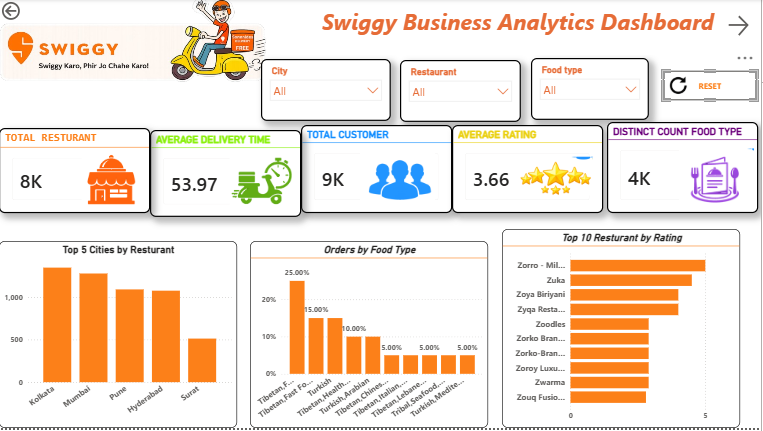

This screenshot's page, from the dashboard's own definition file:
{"tool":"powerbi","page":{"name":"Page 2","canvas":[1280,720],"ordinal":0},"visuals":[{"type":"image","box":[0,0,451.9,186.5],"z":0},{"type":"slicer","fields":{"Values":["swiggy.City"]},"box":[440.1,100.8,218.4,104.1],"z":1000},{"type":"slicer","fields":{"Values":["swiggy.Restaurant"]},"box":[673.6,102.5,203.3,104.1],"z":2000},{"type":"slicer","fields":{"Values":["swiggy.Food type"]},"box":[893.6,99.1,198.2,104.1],"z":3000},{"type":"actionButton","box":[0,0,100,40],"z":4000},{"type":"cardVisual","title":"TOTAL CUSTOMER","fields":{"Data":["swiggy.total coustmer"]},"box":[507.3,211.7,253.6,147.8],"z":5000},{"type":"cardVisual","title":"AVERAGE DELIVERY TIME","fields":{"Data":["Avg(swiggy.Delivery time)"]},"box":[253.6,220.1,253.6,146.1],"z":6000},{"type":"cardVisual","title":"TOTAL RESTURANT","fields":{"Data":["swiggy.total resturants"]},"box":[0,216.7,253.6,142.8],"z":7000},{"type":"cardVisual","title":"AVERAGE RATING","fields":{"Data":["Avg(swiggy.Avg ratings)"]},"box":[760.9,211.7,253.6,147.8],"z":8000},{"type":"cardVisual","title":"DISTINCT COUNT FOOD TYPE","fields":{"Data":["swiggy.DISTINCT COUNT FOOD TYPE"]},"box":[1021.3,206.6,253.6,152.9],"z":9000},{"type":"columnChart","title":"Top 5 Cities by Resturant ","fields":{"Category":["swiggy.City"],"Y":["CountNonNull(swiggy.ID)"]},"box":[0,406.5,399.8,314.1],"z":10000},{"type":"columnChart","title":"Orders by Food Type","fields":{"Category":["swiggy.Food type"],"Y":["Divide(swiggy.Total ordeers, ScopedEval(swiggy.Total ordeers, []))"]},"box":[421.6,406.5,399.8,314.1],"z":11000},{"type":"barChart","title":"Top 10 Resturant by Rating","fields":{"Category":["swiggy.Restaurant"],"Y":["Avg(swiggy.Avg ratings)"]},"box":[844.9,386.4,399.8,334.3],"z":12000},{"type":"textbox","box":[473.7,6.7,796.2,87.3],"z":13000},{"type":"actionButton","box":[1219.5,6.7,50.4,68.9],"z":14000},{"type":"image","box":[122.6,253.6,126,100.8],"z":14001},{"type":"image","box":[871.8,246.9,126,100.8],"z":14002},{"type":"image","box":[606.4,246.9,126,100.8],"z":14003},{"type":"image","box":[381.3,253.6,126,100.8],"z":14004},{"type":"image","box":[1142.3,246.9,126,100.8],"z":14005},{"type":"actionButton","box":[1113.7,119.3,161.3,52.1],"z":14006},{"type":"image","box":[1112,129.3,58.8,31.9],"z":14007}]}

Visuals, with their boxes in screenshot pixels (x1, y1, x2, y2), scaled from the page's 1280x720 canvas onto the 763x431 screenshot:
image: <region>0, 0, 269, 112</region>
slicer - swiggy.City: <region>262, 60, 393, 123</region>
slicer - swiggy.Restaurant: <region>402, 61, 523, 124</region>
slicer - swiggy.Food type: <region>533, 59, 651, 122</region>
actionButton: <region>0, 0, 60, 24</region>
"TOTAL CUSTOMER" cardVisual: <region>302, 127, 454, 215</region>
"AVERAGE DELIVERY TIME" cardVisual: <region>151, 132, 302, 219</region>
"TOTAL RESTURANT" cardVisual: <region>0, 130, 151, 215</region>
"AVERAGE RATING" cardVisual: <region>454, 127, 605, 215</region>
"DISTINCT COUNT FOOD TYPE" cardVisual: <region>609, 124, 760, 215</region>
"Top 5 Cities by Resturant " columnChart: <region>0, 243, 238, 430</region>
"Orders by Food Type" columnChart: <region>251, 243, 490, 430</region>
"Top 10 Resturant by Rating" barChart: <region>504, 231, 742, 430</region>
textbox: <region>282, 4, 757, 56</region>
actionButton: <region>727, 4, 757, 45</region>
image: <region>73, 152, 148, 212</region>
image: <region>520, 148, 595, 208</region>
image: <region>361, 148, 437, 208</region>
image: <region>227, 152, 302, 212</region>
image: <region>681, 148, 756, 208</region>
actionButton: <region>664, 71, 760, 103</region>
image: <region>663, 77, 698, 96</region>
